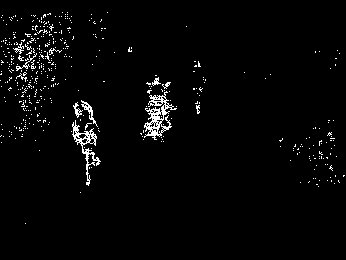person: (69, 99, 101, 189)
